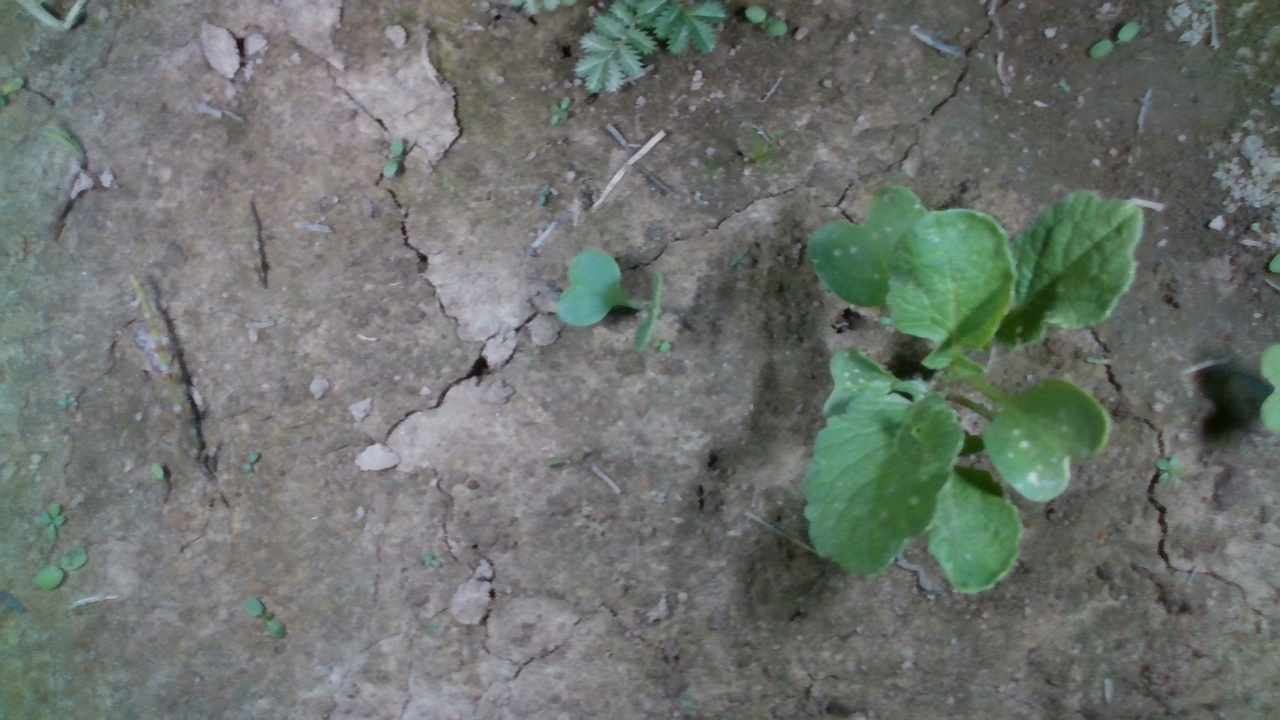weed: (34, 544, 89, 591), (1086, 19, 1141, 61), (243, 594, 289, 642), (743, 3, 789, 37), (38, 500, 68, 542), (381, 134, 405, 178), (1155, 451, 1185, 485), (547, 94, 572, 125), (650, 337, 673, 352)
